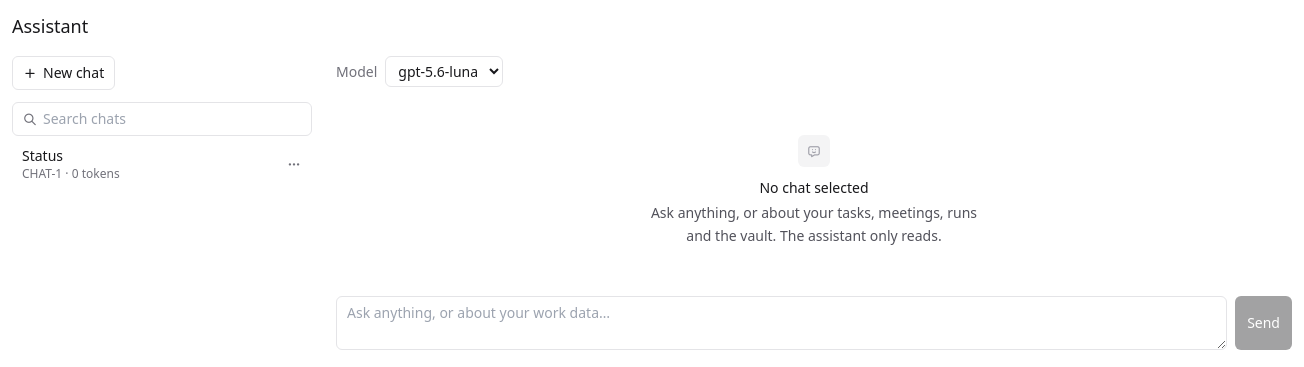
it: streaming › AC-2: Stop aborts the request's signal and re-enables the input
Click the button "Status CHAT-1 · 0 tokens". click: (43, 156)
box: [12,140,276,188]
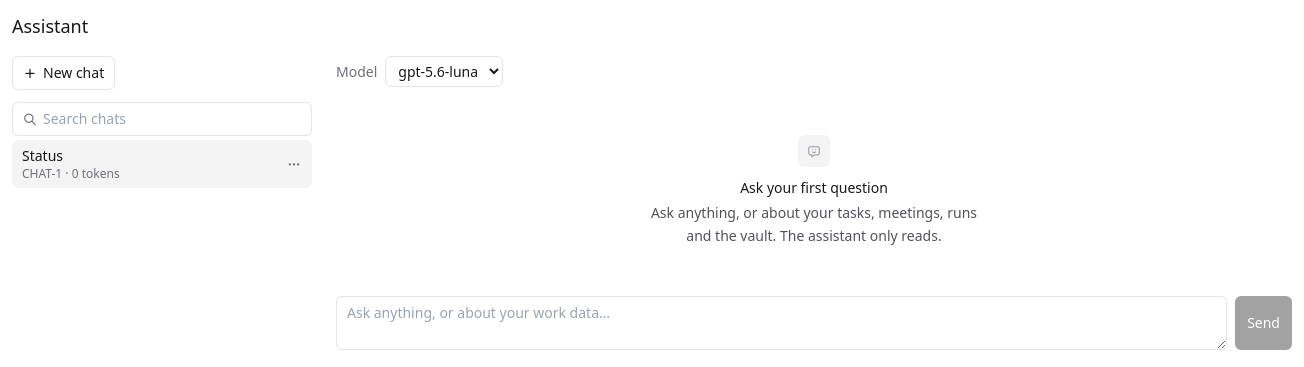
Result: the text "Ask your first question" is shown at [740,177,888,198]
Type "hi" into the text box named "Message". click: (782, 322)
box: [336,296,1227,350]
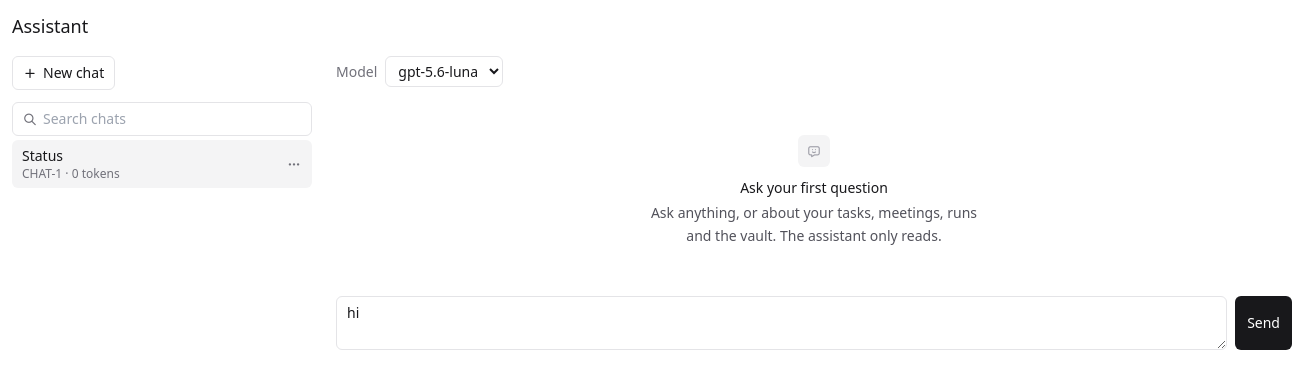
Click the button "Send". click: (1264, 322)
box: [1235,296,1292,350]
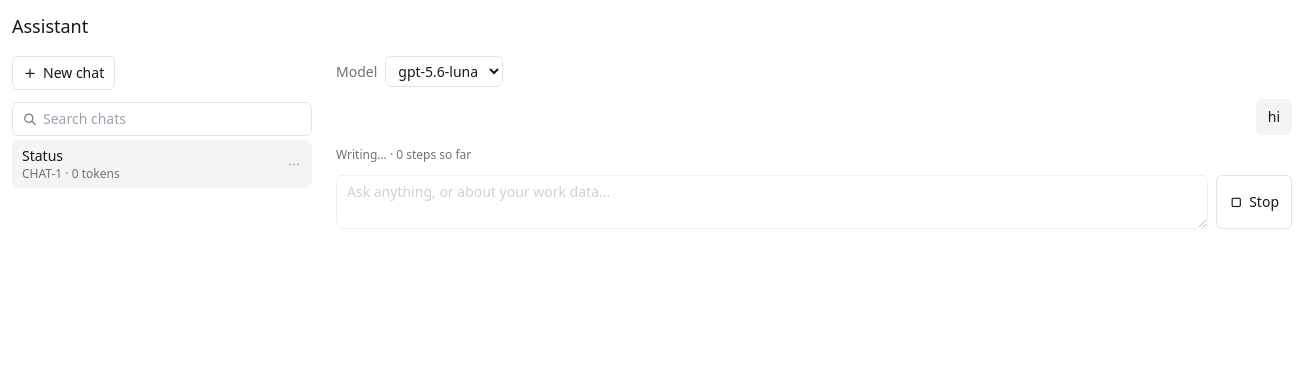
Click the button "Stop". click: (1254, 202)
box: [1216,175,1292,229]
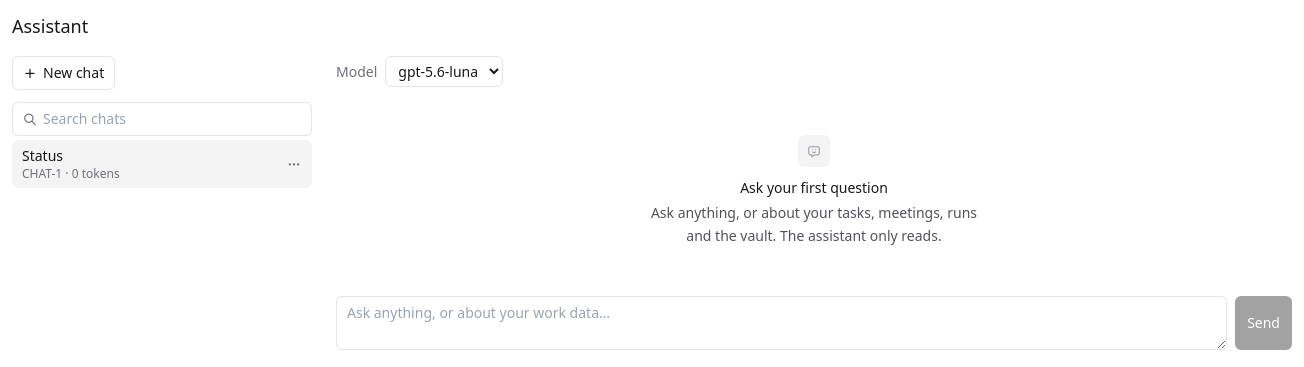
Result: the text box named "Message" is enabled at [336,296,1227,350]
